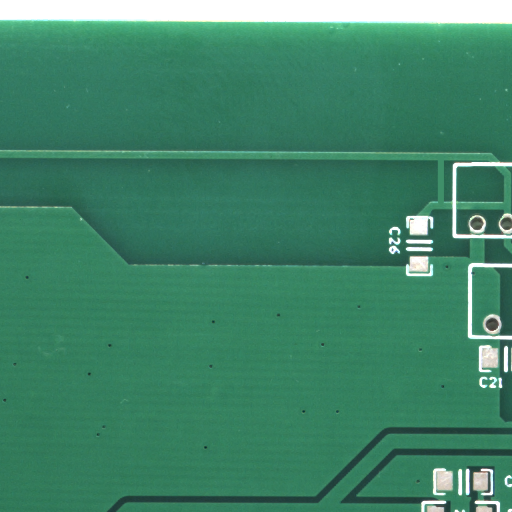Short: (441, 181, 452, 229)
